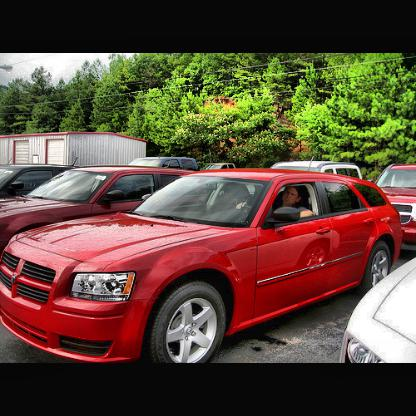Dodge Magnum Wagon 2008: (1, 172, 407, 363)
